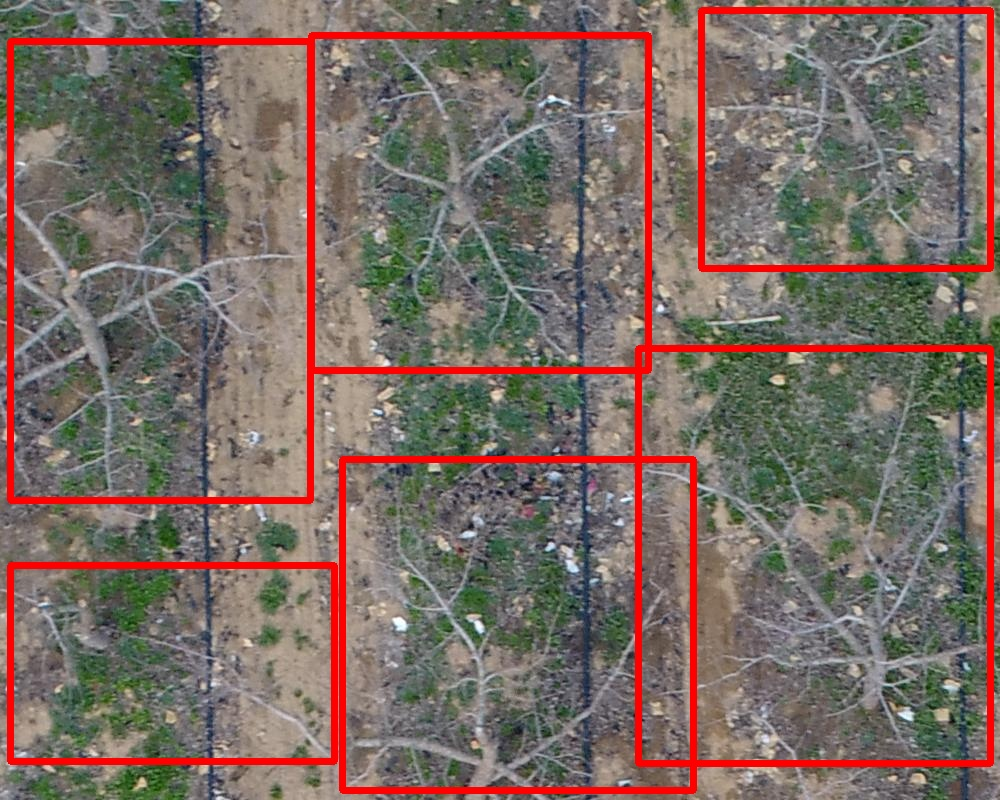apple: (638, 348, 990, 763), (10, 41, 310, 500), (342, 459, 693, 790), (311, 35, 648, 370), (701, 10, 990, 268), (10, 565, 334, 761)
